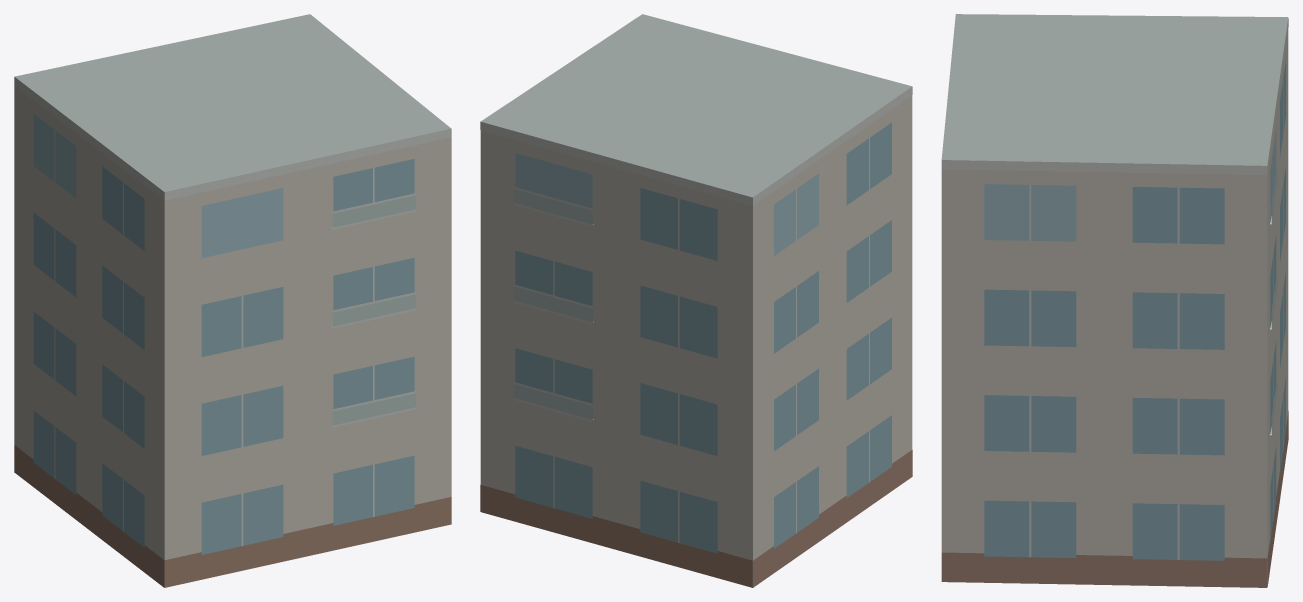
Rendered from survey-upis-32566286.glb.
The picture shows the model from 3 angles, left to right: view 1: azimuth 30°, elevation 25°; view 2: azimuth 150°, elevation 25°; view 3: azimuth 270°, elevation 25°; orthographic projection. The views are drawn at different scales.
Parts seen in each view (by area): view 1: survey-upis-32566286.tmp; view 2: survey-upis-32566286.tmp; view 3: survey-upis-32566286.tmp.
Boxes of the visible parts, x1,y1,x2,y2 form: survey-upis-32566286.tmp: (14,14,451,587); survey-upis-32566286.tmp: (480,14,912,587); survey-upis-32566286.tmp: (941,14,1288,587).
Bounding box in the file's own units: 8.65 × 11.2 × 8.36.
